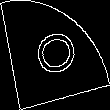O_W: (30, 28, 80, 82)
